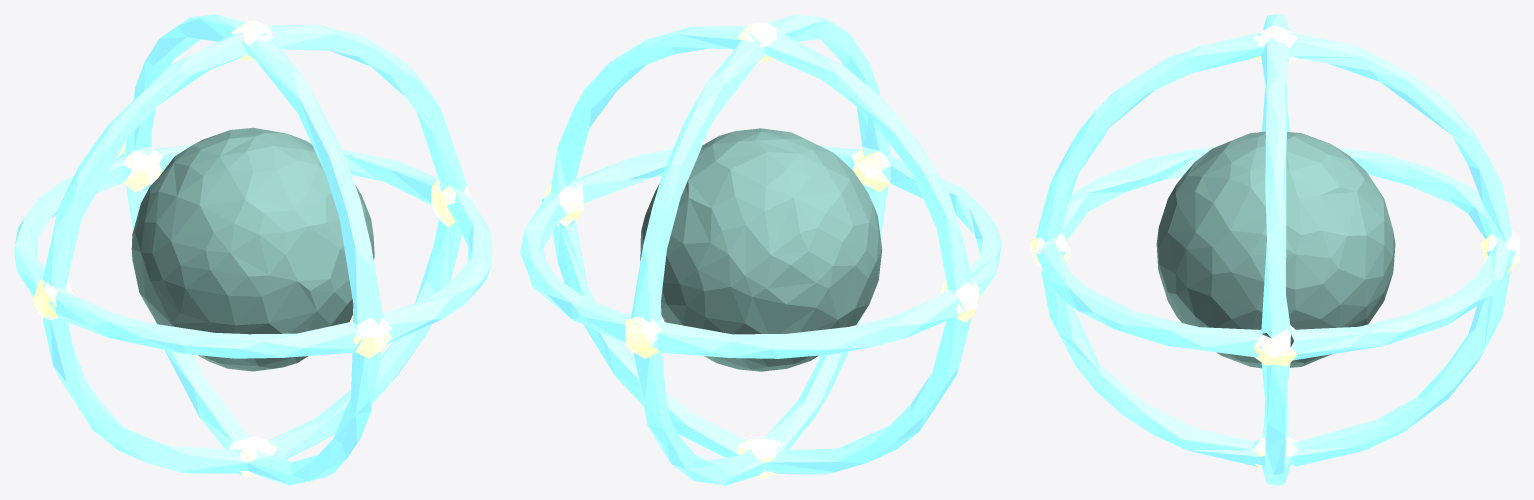
The model's file is pickup_shield.glb.
The picture shows the model from 3 angles, left to right: view 1: azimuth 30°, elevation 25°; view 2: azimuth 150°, elevation 25°; view 3: azimuth 270°, elevation 25°; orthographic projection.
Visible parts, largest first — view 1: pickup_shield; view 2: pickup_shield; view 3: pickup_shield.
Boxes of the visible parts, x1,y1,x2,y2 form: pickup_shield: (14, 14, 491, 485); pickup_shield: (520, 14, 1001, 485); pickup_shield: (1030, 14, 1519, 485).
Size of the model in its own units: 0.3493 by 0.3493 by 0.3477.
